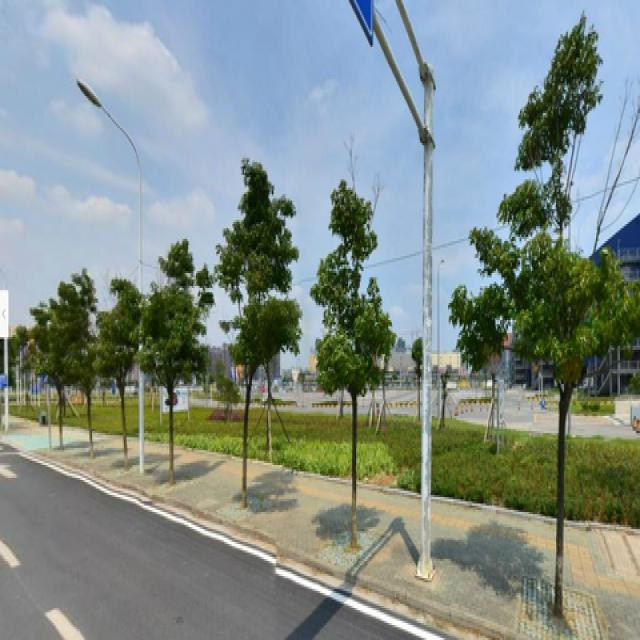cinn: (221, 162, 291, 506)
